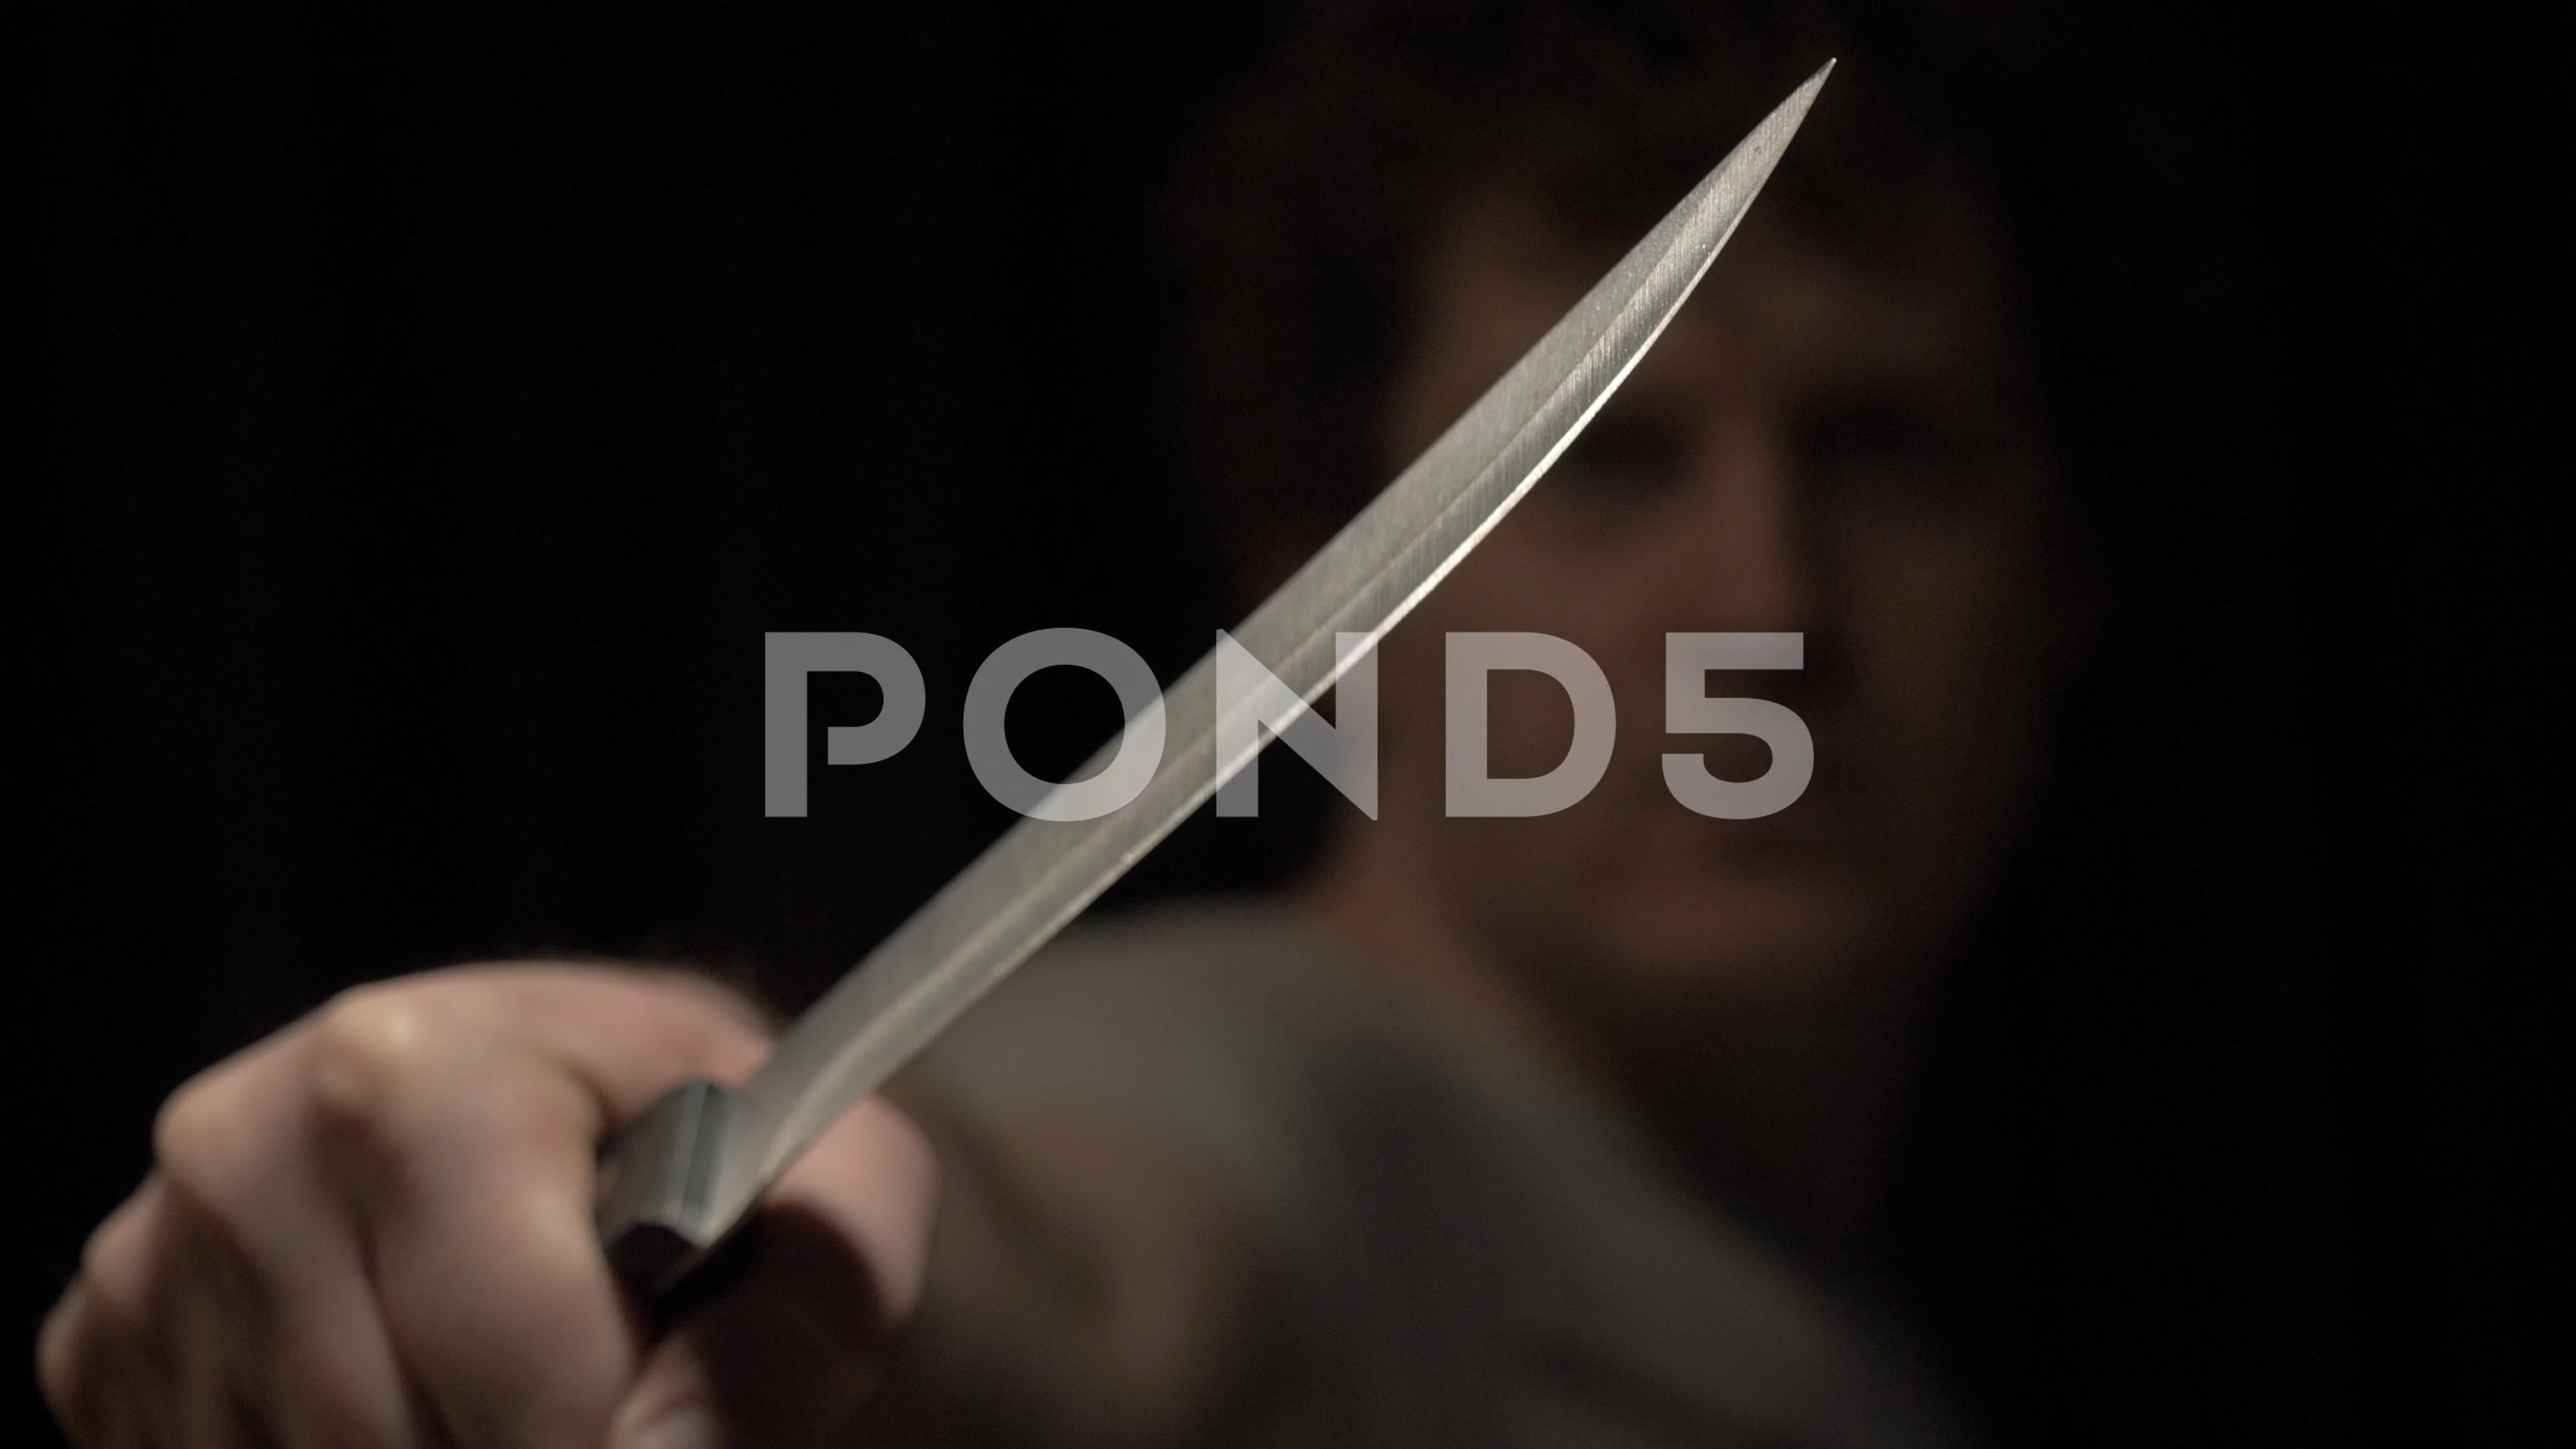knife: (594, 55, 1838, 1327)
